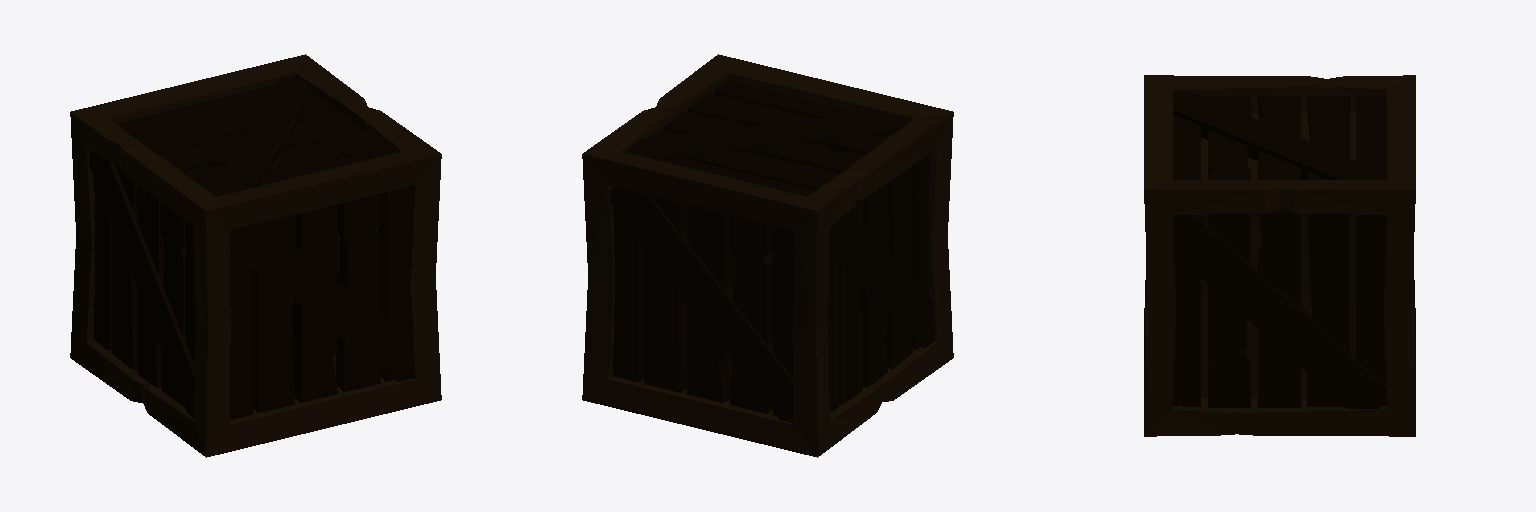
Rendered from Crate.obj.
3 renders of one model, left to right at view 1: azimuth 30°, elevation 25°; view 2: azimuth 150°, elevation 25°; view 3: azimuth 270°, elevation 25°, orthographic.
Visible parts, largest first — view 1: Crate; view 2: Crate; view 3: Crate.
Part boxes in pixels (left/top/right/bottom): Crate: left=70, top=54, right=441, bottom=457; Crate: left=582, top=54, right=953, bottom=457; Crate: left=1144, top=75, right=1415, bottom=436.
Bounding box in the file's own units: 0.8239 × 0.824 × 0.824.